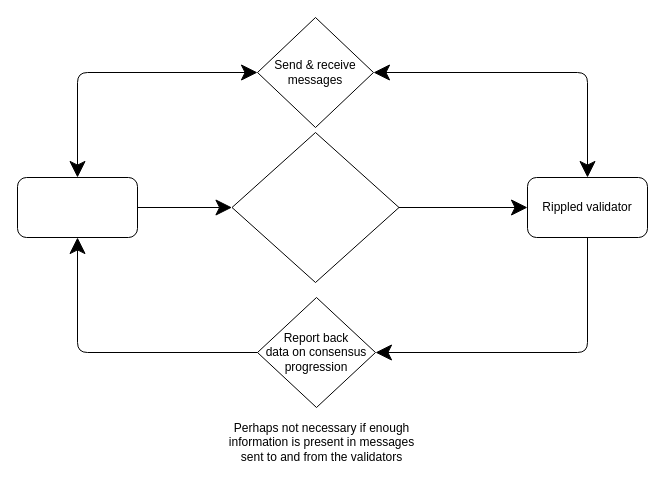
Image size: 665x485. Some labels were removed from this diagram. The shapes that lost their labels are listed below. From the top down, each one's box as (x1, y1, x2, y2) in pixels, then its label:
(16, 176, 138, 238): Testing application
(231, 132, 399, 282): Heartbeat mechanism for controlled consensus progression
